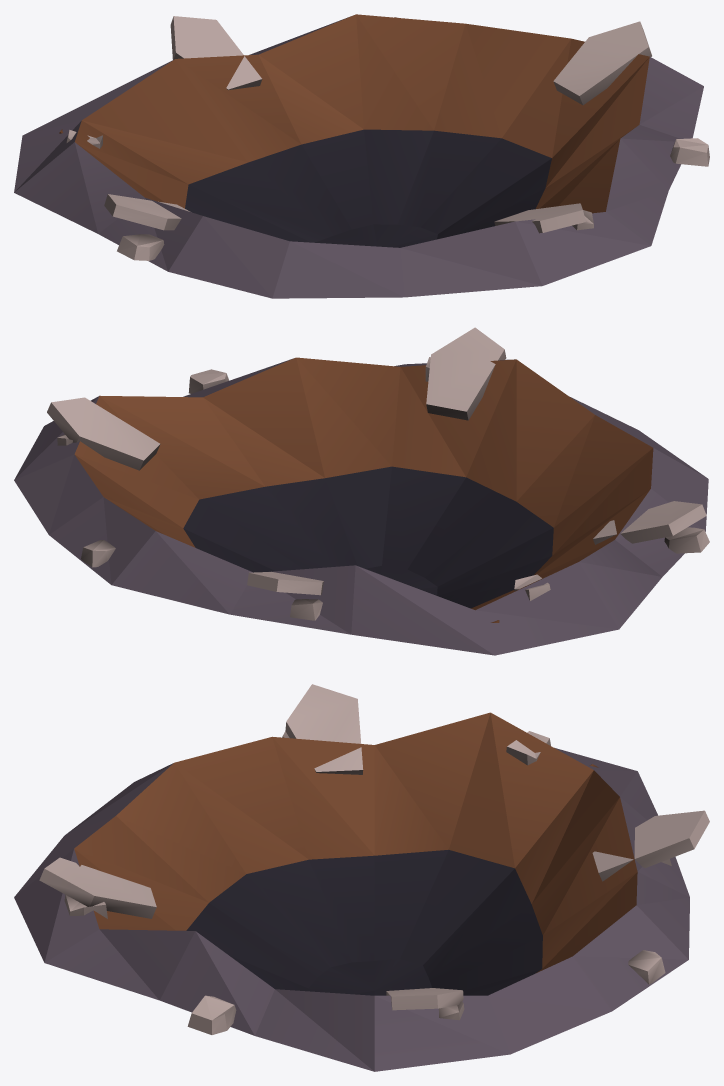
The picture shows the model from 3 angles, top to bottom: view 1: azimuth 30°, elevation 25°; view 2: azimuth 150°, elevation 25°; view 3: azimuth 270°, elevation 25°; orthographic projection. The views are drawn at different scales.
Parts seen in each view (by area): view 1: body_pal_leatherShadow, body_pal_asphalt, body_pal_uiDark, body_pal_sidewalk; view 2: body_pal_leatherShadow, body_pal_asphalt, body_pal_uiDark, body_pal_sidewalk; view 3: body_pal_leatherShadow, body_pal_asphalt, body_pal_uiDark, body_pal_sidewalk.
Boxes of the visible parts, x1,y1,x2,y2 form: body_pal_leatherShadow: (59, 14, 649, 213); body_pal_asphalt: (14, 16, 703, 298); body_pal_uiDark: (185, 129, 551, 247); body_pal_sidewalk: (66, 16, 709, 260); body_pal_leatherShadow: (74, 357, 653, 622); body_pal_asphalt: (14, 358, 708, 655); body_pal_uiDark: (183, 466, 553, 608); body_pal_sidewalk: (47, 327, 709, 620); body_pal_leatherShadow: (74, 712, 637, 973); body_pal_asphalt: (14, 747, 689, 1071); body_pal_uiDark: (186, 849, 542, 995); body_pal_sidewalk: (39, 684, 709, 1034).
Size of the model in its own units: 5.21 by 1.09 by 4.57.
